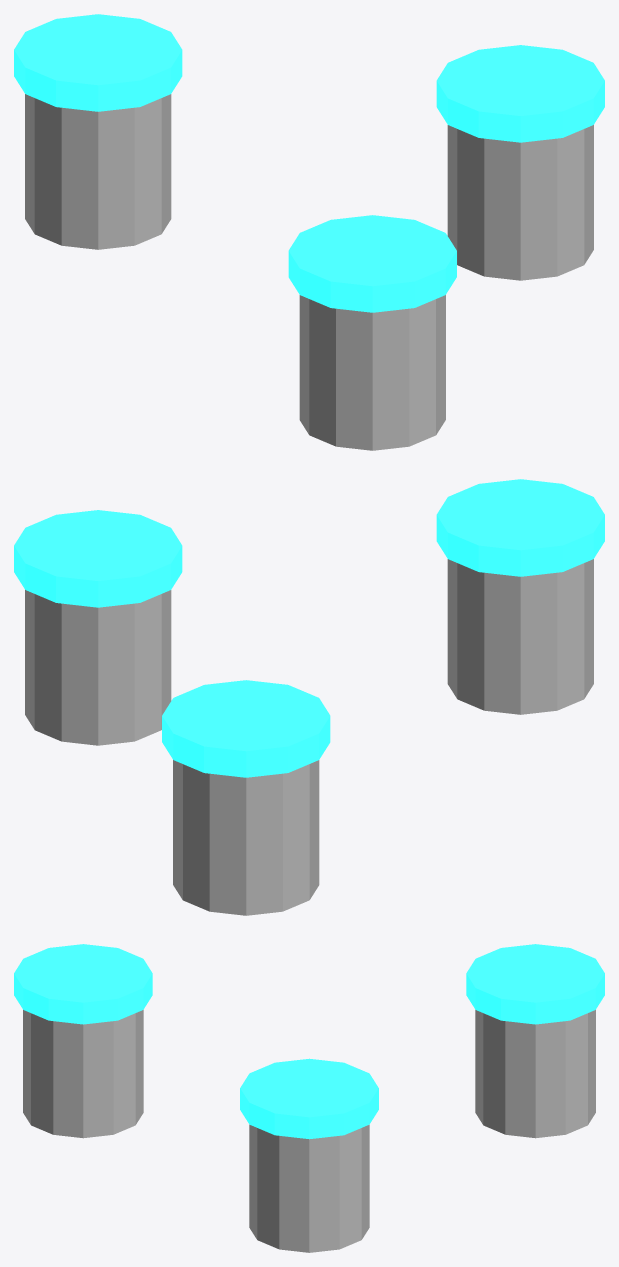
3 views of the same model, one above another, from view 1: azimuth 30°, elevation 25°; view 2: azimuth 150°, elevation 25°; view 3: azimuth 270°, elevation 25° (orthographic). The views are drawn at different scales.
Visible parts, largest first — view 1: Neon_SlalomBumpers_Standard; view 2: Neon_SlalomBumpers_Standard; view 3: Neon_SlalomBumpers_Standard.
Part boxes in pixels (box(x1,y1,x2,y2)): Neon_SlalomBumpers_Standard: box(14, 14, 604, 450); Neon_SlalomBumpers_Standard: box(14, 479, 604, 915); Neon_SlalomBumpers_Standard: box(14, 944, 604, 1252).
Size of the model in its own units: 1.36 by 0.51 by 1.96.
